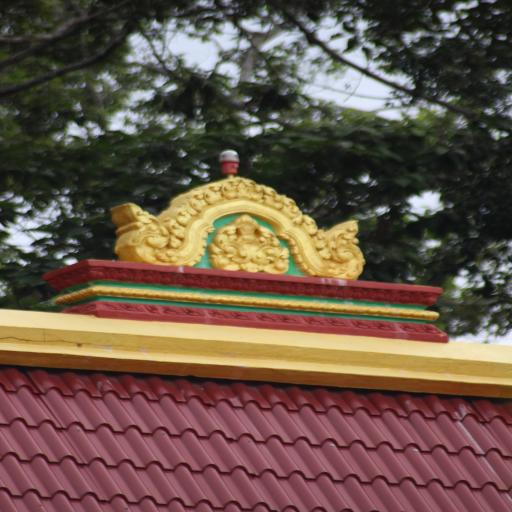la: (212, 220, 288, 273), (123, 210, 177, 263), (322, 219, 368, 276), (222, 180, 264, 202), (262, 187, 288, 209), (294, 210, 317, 234), (167, 217, 188, 239), (311, 229, 330, 252), (282, 196, 302, 217), (204, 185, 223, 205), (178, 206, 198, 224), (192, 190, 208, 210)
